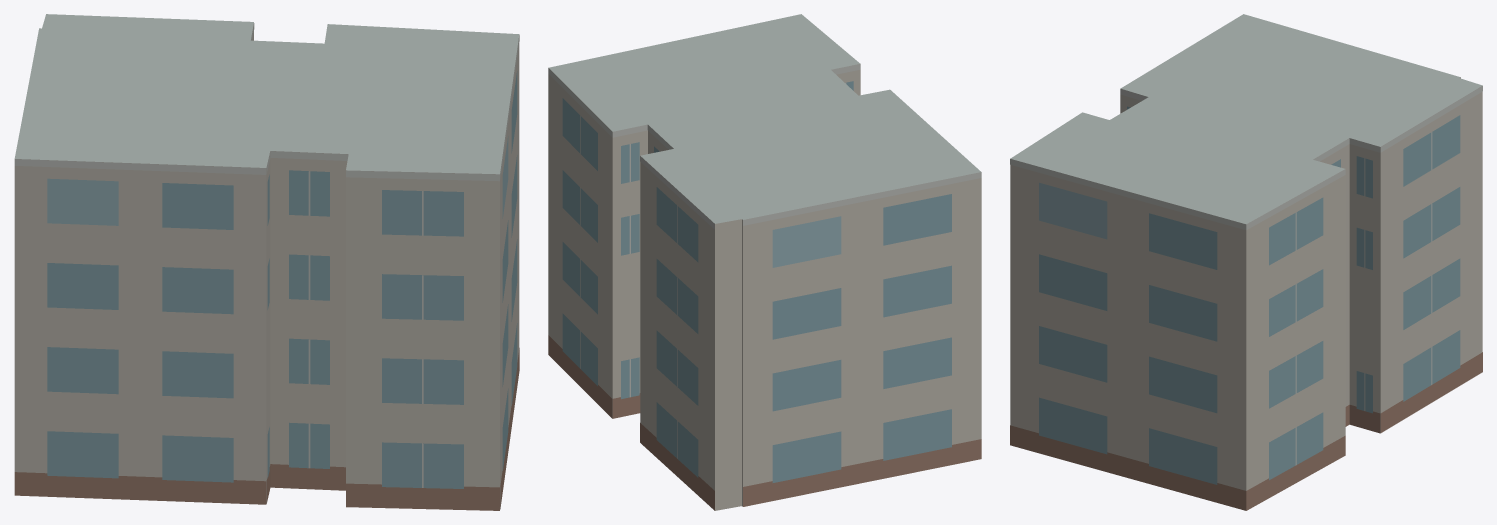
File: survey-upis-32834763.glb
The picture shows the model from 3 angles, left to right: view 1: azimuth 30°, elevation 25°; view 2: azimuth 150°, elevation 25°; view 3: azimuth 270°, elevation 25°; orthographic projection. The views are drawn at different scales.
Parts seen in each view (by area): view 1: survey-upis-32834763.tmp; view 2: survey-upis-32834763.tmp; view 3: survey-upis-32834763.tmp.
Part boxes in pixels (left/top/right/bottom): survey-upis-32834763.tmp: left=14, top=14, right=519, bottom=510; survey-upis-32834763.tmp: left=548, top=14, right=981, bottom=510; survey-upis-32834763.tmp: left=1010, top=14, right=1482, bottom=510.
Size of the model in its own units: 18.57 by 11.79 by 17.63.
